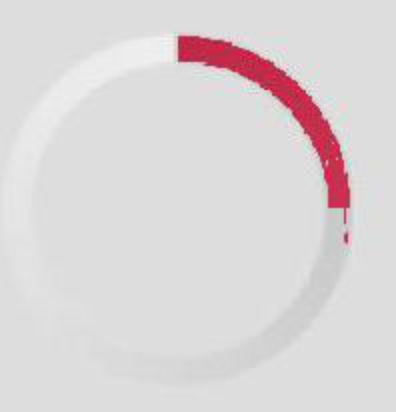ProgressBar: (1, 1, 395, 411)
